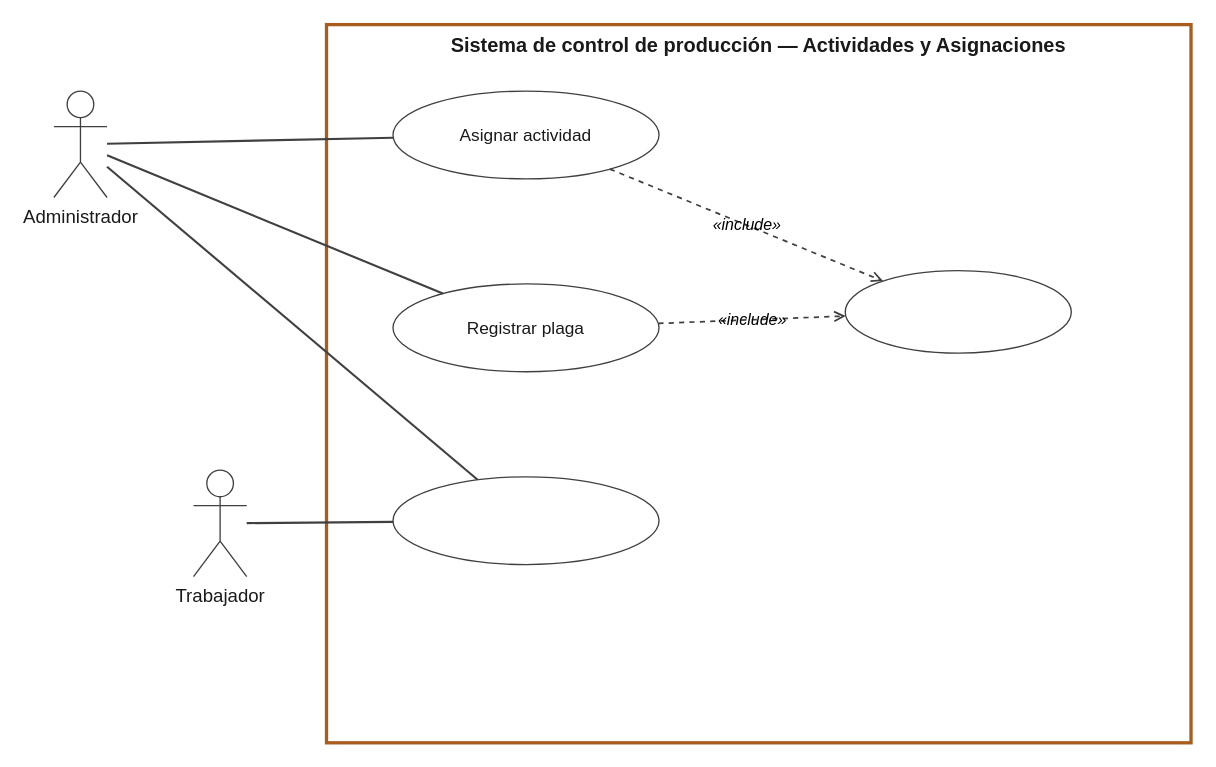
Image size: 1216x767. Some labels were removed from this diagram. The centre of each missing label's shape, as x and y in pixels:
"Consultar actividad" goes at pixel 525 520.
"Validar datos" goes at pixel 957 311.
